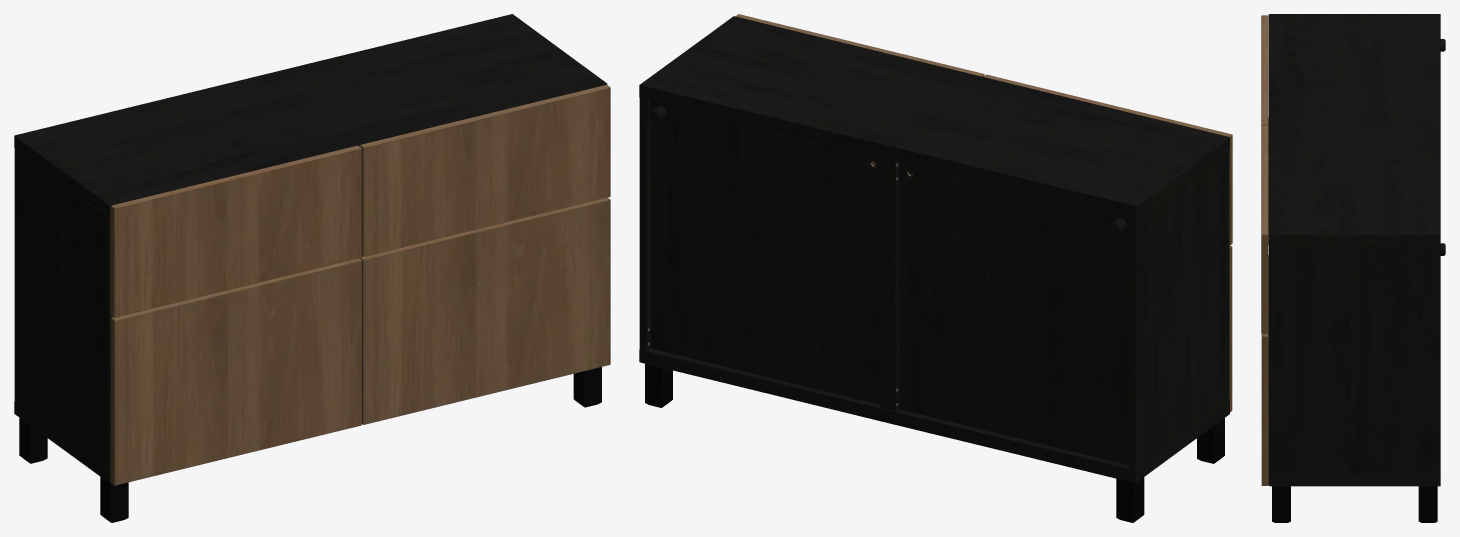
The picture shows the model from 3 angles, left to right: view 1: azimuth 30°, elevation 25°; view 2: azimuth 150°, elevation 25°; view 3: azimuth 270°, elevation 25°; orthographic projection. The views are drawn at different scales.
Parts seen in each view (by area): view 1: 39612202_storage_combination_w_doors_drawers.005, 39612202_storage_combination_w_doors_drawers.002, 39612202_storage_combination_w_doors_drawers.001, 39612202_storage_combination_w_doors_drawers.012, 39612202_storage_combination_w_doors_drawers, 39612202_storage_combination_w_doors_drawers.011, 39612202_storage_combination_w_doors_drawers.006; view 2: 39612202_storage_combination_w_doors_drawers.005, 39612202_storage_combination_w_doors_drawers.006, 39612202_storage_combination_w_doors_drawers.011, 39612202_storage_combination_w_doors_drawers.008, 39612202_storage_combination_w_doors_drawers.012, 39612202_storage_combination_w_doors_drawers; view 3: 39612202_storage_combination_w_doors_drawers.005, 39612202_storage_combination_w_doors_drawers.006, 39612202_storage_combination_w_doors_drawers, 39612202_storage_combination_w_doors_drawers.008, 39612202_storage_combination_w_doors_drawers.011, 39612202_storage_combination_w_doors_drawers.001, 39612202_storage_combination_w_doors_drawers.012.
Boxes of the visible parts, <box> form: 39612202_storage_combination_w_doors_drawers.005: <box>14,14,607,482</box>; 39612202_storage_combination_w_doors_drawers.002: <box>111,258,361,485</box>; 39612202_storage_combination_w_doors_drawers.001: <box>359,197,610,424</box>; 39612202_storage_combination_w_doors_drawers.012: <box>110,145,361,317</box>; 39612202_storage_combination_w_doors_drawers: <box>359,84,610,256</box>; 39612202_storage_combination_w_doors_drawers.011: <box>19,367,601,522</box>; 39612202_storage_combination_w_doors_drawers.006: <box>14,14,605,482</box>; 39612202_storage_combination_w_doors_drawers.005: <box>640,16,1229,470</box>; 39612202_storage_combination_w_doors_drawers.006: <box>639,16,1229,482</box>; 39612202_storage_combination_w_doors_drawers.011: <box>645,363,1224,522</box>; 39612202_storage_combination_w_doors_drawers.008: <box>639,60,1229,483</box>; 39612202_storage_combination_w_doors_drawers.012: <box>983,74,1232,245</box>; 39612202_storage_combination_w_doors_drawers: <box>735,14,984,76</box>; 39612202_storage_combination_w_doors_drawers.005: <box>1268,14,1440,474</box>; 39612202_storage_combination_w_doors_drawers.006: <box>1269,14,1440,485</box>; 39612202_storage_combination_w_doors_drawers: <box>1261,125,1268,333</box>; 39612202_storage_combination_w_doors_drawers.008: <box>1268,14,1440,486</box>; 39612202_storage_combination_w_doors_drawers.011: <box>1272,486,1437,522</box>; 39612202_storage_combination_w_doors_drawers.001: <box>1261,227,1268,485</box>; 39612202_storage_combination_w_doors_drawers.012: <box>1261,15,1268,125</box>.
Size of the model in its own units: 1.2 by 0.7403 by 0.4233.
Materials: 1 (1 with a texture image).
